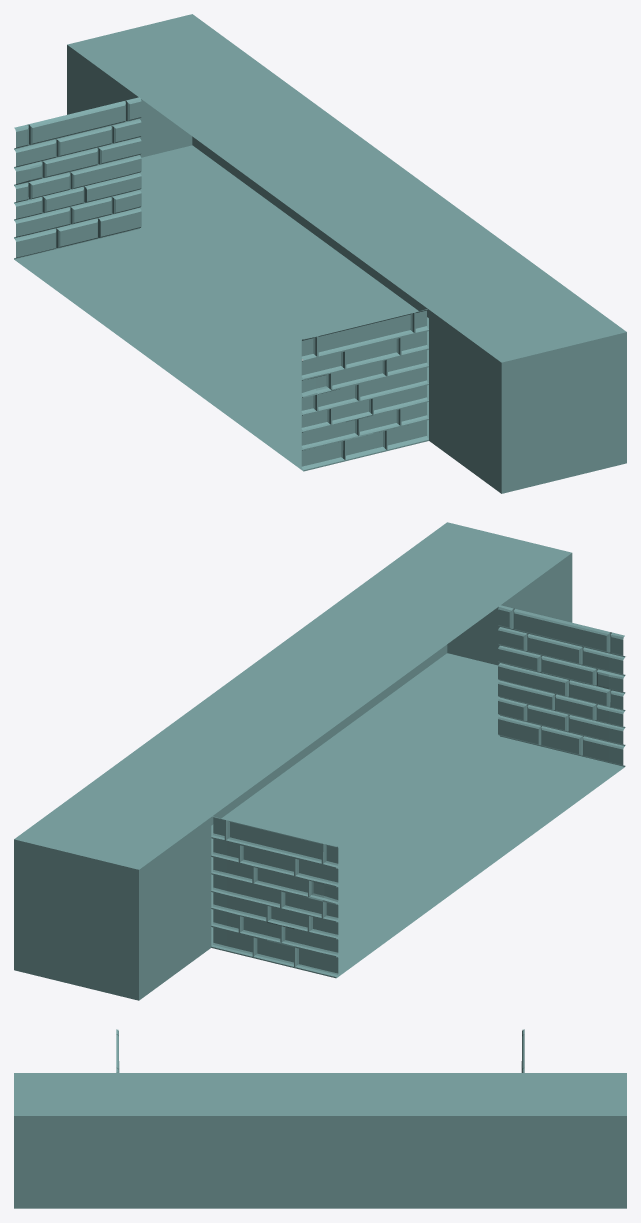
Rendered from sm_tile_waterfalltile_hole.fbx.
3 views of the same model, one above another, from view 1: azimuth 30°, elevation 25°; view 2: azimuth 150°, elevation 25°; view 3: azimuth 270°, elevation 25° (orthographic). The views are drawn at different scales.
Parts seen in each view (by area): view 1: WitchGameWaterfallTiles_2_27_20:Waterfall_Back_Start; view 2: WitchGameWaterfallTiles_2_27_20:Waterfall_Back_Start; view 3: WitchGameWaterfallTiles_2_27_20:Waterfall_Back_Start.
Boxes of the visible parts, x1=… form: WitchGameWaterfallTiles_2_27_20:Waterfall_Back_Start: x1=14, y1=14, x2=626, y2=493; WitchGameWaterfallTiles_2_27_20:Waterfall_Back_Start: x1=14, y1=522, x2=625, y2=1000; WitchGameWaterfallTiles_2_27_20:Waterfall_Back_Start: x1=14, y1=1029, x2=626, y2=1208.
Bounding box in the file's own units: 4.03 × 2.01 × 12.
